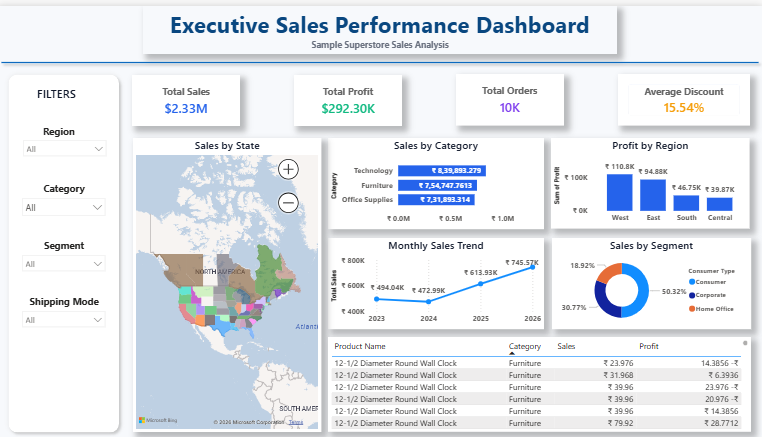

Layout of this report page (visuals, bound fields, positions):
{"tool":"powerbi","page":{"name":"Executive Dashboard","canvas":[1280,720],"ordinal":0},"visuals":[{"type":"textbox","box":[245,0,790,80],"z":0,"group":"g3"},{"type":"group","id":"g1","title":"Filter Bar","box":[11.2,105,202.5,615],"z":0},{"type":"shape","box":[11.2,105,202.5,615],"z":0,"group":"g1"},{"type":"cardVisual","title":"Total Sales KPI","fields":{"Data":["Sum(Superstore.Sales)"]},"box":[227.2,114.7,180,85],"z":0,"group":"g2"},{"type":"slicer","fields":{"Values":["Superstore.Region"]},"box":[35,214.2,158.8,53.7],"z":0,"group":"g5"},{"type":"slicer","fields":{"Values":["Superstore.Category"]},"box":[33,309.1,158.8,53.7],"z":0,"group":"g4"},{"type":"slicer","fields":{"Values":["Superstore.Segment"]},"box":[33,404.1,158.8,53.7],"z":0,"group":"g6"},{"type":"slicer","fields":{"Values":["Superstore.Shipping Mode"]},"box":[33,498.7,158.8,53.7],"z":0,"group":"g7"},{"type":"shape","title":"Top Nav Line","box":[0,83.3,1280,21.7],"z":1000,"group":"g3"},{"type":"group","id":"g2","title":"KPI cards","box":[227.2,112.9,1030.2,86.8],"z":1000},{"type":"cardVisual","title":"Total Orders KPI","fields":{"Data":["CountNonNull(Superstore.Order ID)"]},"box":[767.5,113.3,179.8,85.8],"z":1000,"group":"g2"},{"type":"textbox","box":[63.5,127.5,89.3,41.6],"z":1000,"group":"g1"},{"type":"textbox","box":[72.7,193.4,81.4,39.8],"z":1000,"group":"g5"},{"type":"textbox","box":[35,287.9,156.8,39.8],"z":1000,"group":"g4"},{"type":"textbox","box":[35,382.9,156.8,39.8],"z":1000,"group":"g6"},{"type":"textbox","box":[35,477.5,156.8,39.8],"z":1000,"group":"g7"},{"type":"group","id":"g3","title":"Top Nav Bar","box":[0,0,1280,105],"z":2000},{"type":"cardVisual","title":"Avg. Discount KPI","fields":{"Data":["Avg(Superstore.Discount)"]},"box":[1037.4,112.9,220,86],"z":2000,"group":"g2"},{"type":"group","id":"g4","title":"Category Slicer","box":[33,287.9,158.8,74.9],"z":2000,"group":"g1"},{"type":"cardVisual","title":"Total Profit KPI","fields":{"Data":["Sum(Superstore.Profit)"]},"box":[497.3,114.3,180,85],"z":3000,"group":"g2"},{"type":"group","id":"g5","title":"Region Slicer","box":[35,193.4,158.8,74.5],"z":3000,"group":"g1"},{"type":"clusteredBarChart","title":"Sales by Category","fields":{"Category":["Superstore.Category"],"Y":["Sum(Superstore.Sales)"]},"box":[552.5,220,360,151.7],"z":3000},{"type":"clusteredColumnChart","title":"Profit by Region","fields":{"Category":["Superstore.Region"],"Y":["Sum(Superstore.Profit)"]},"box":[925.7,220,331.4,151.4],"z":4000},{"type":"group","id":"g6","title":"Segment Slicer","box":[33,382.9,158.8,74.5],"z":4000,"group":"g1"},{"type":"lineChart","title":"Monthly Sales Trend","fields":{"Category":["Superstore.Order Date.Variation.Date Hierarchy.Year","Superstore.Order Date.Variation.Date Hierarchy.Quarter","Superstore.Order Date.Variation.Date Hierarchy.Month","Superstore.Order Date.Variation.Date Hierarchy.Day"],"Y":["Sum(Superstore.Sales)"]},"box":[552.5,386.7,360,151.7],"z":5000},{"type":"group","id":"g7","title":"Shipping Mode Slicer","box":[33,477.5,158.8,74.5],"z":5000,"group":"g1"},{"type":"donutChart","title":"Sales by Segment","fields":{"Y":["Sum(Superstore.Sales)"],"Category":["Superstore.Segment"]},"box":[925.8,386.7,331.7,151.7],"z":6001},{"type":"filledMap","title":"Sales by State","fields":{"Category":["Superstore.State/Province"],"Series":["Superstore.Sales"]},"box":[227.5,220,314.2,490],"z":6002},{"type":"tableEx","title":"Monthly Sales Trend","fields":{"Values":["Superstore.Product Name","Superstore.Category","Superstore.Sales","Superstore.Profit"]},"box":[553.3,551.7,705,158.3],"z":6003}]}

Visuals, with their boxes in screenshot pixels (x1, y1, x2, y2), scaled from the page's 1280x720 canvas onto the 762x437 screenshot:
textbox: (x1=146, y1=0, x2=616, y2=49)
"Filter Bar" group: (x1=7, y1=64, x2=127, y2=436)
shape: (x1=7, y1=64, x2=127, y2=436)
"Total Sales KPI" cardVisual: (x1=135, y1=70, x2=242, y2=121)
slicer - Superstore.Region: (x1=21, y1=130, x2=115, y2=163)
slicer - Superstore.Category: (x1=20, y1=188, x2=114, y2=220)
slicer - Superstore.Segment: (x1=20, y1=245, x2=114, y2=278)
slicer - Superstore.Shipping Mode: (x1=20, y1=303, x2=114, y2=335)
"Top Nav Line" shape: (x1=0, y1=51, x2=761, y2=64)
"KPI cards" group: (x1=135, y1=69, x2=749, y2=121)
"Total Orders KPI" cardVisual: (x1=457, y1=69, x2=564, y2=121)
textbox: (x1=38, y1=77, x2=91, y2=103)
textbox: (x1=43, y1=117, x2=92, y2=142)
textbox: (x1=21, y1=175, x2=114, y2=199)
textbox: (x1=21, y1=232, x2=114, y2=257)
textbox: (x1=21, y1=290, x2=114, y2=314)
"Top Nav Bar" group: (x1=0, y1=0, x2=761, y2=64)
"Avg. Discount KPI" cardVisual: (x1=618, y1=69, x2=749, y2=121)
"Category Slicer" group: (x1=20, y1=175, x2=114, y2=220)
"Total Profit KPI" cardVisual: (x1=296, y1=69, x2=403, y2=121)
"Region Slicer" group: (x1=21, y1=117, x2=115, y2=163)
"Sales by Category" clusteredBarChart: (x1=329, y1=134, x2=543, y2=226)
"Profit by Region" clusteredColumnChart: (x1=551, y1=134, x2=748, y2=225)
"Segment Slicer" group: (x1=20, y1=232, x2=114, y2=278)
"Monthly Sales Trend" lineChart: (x1=329, y1=235, x2=543, y2=327)
"Shipping Mode Slicer" group: (x1=20, y1=290, x2=114, y2=335)
"Sales by Segment" donutChart: (x1=551, y1=235, x2=749, y2=327)
"Sales by State" filledMap: (x1=135, y1=134, x2=322, y2=431)
"Monthly Sales Trend" tableEx: (x1=329, y1=335, x2=749, y2=431)
